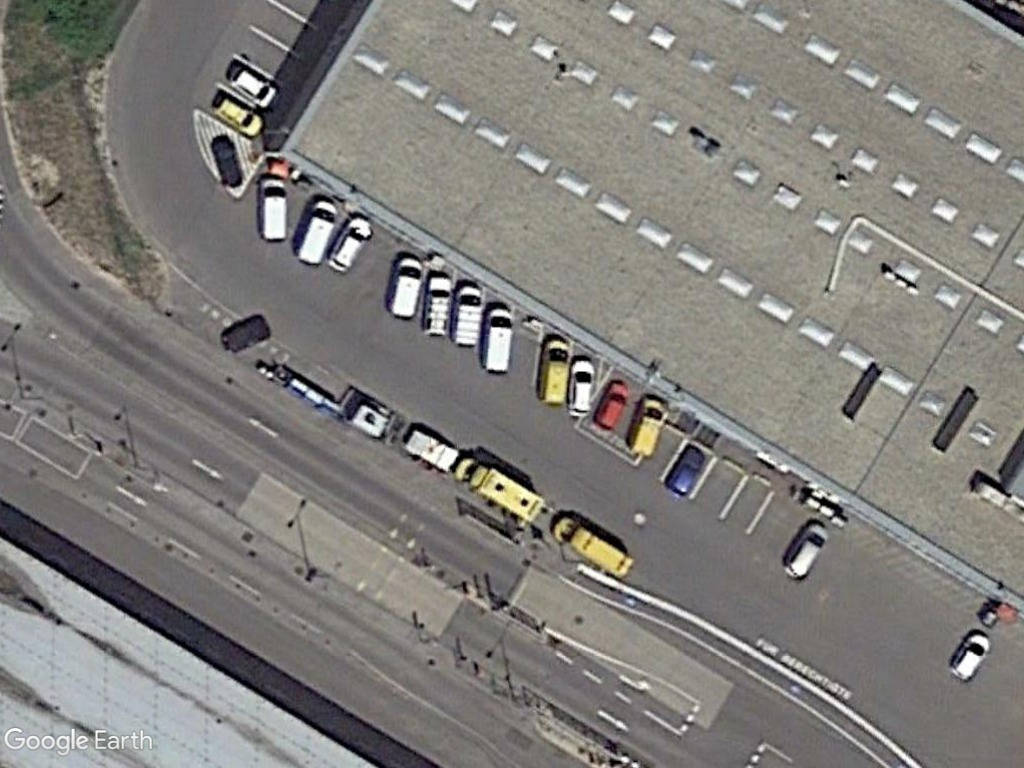car: (779, 520, 831, 584), (327, 213, 377, 276), (420, 267, 457, 340), (225, 62, 279, 110), (945, 628, 992, 682), (666, 443, 710, 500), (211, 93, 262, 138), (565, 354, 596, 425), (594, 379, 633, 433)
truck: (450, 451, 545, 526)
van: (548, 511, 635, 585), (293, 197, 340, 269), (385, 255, 428, 323), (255, 173, 294, 246), (627, 394, 666, 460), (480, 305, 516, 376), (452, 282, 489, 351), (539, 334, 573, 408)
